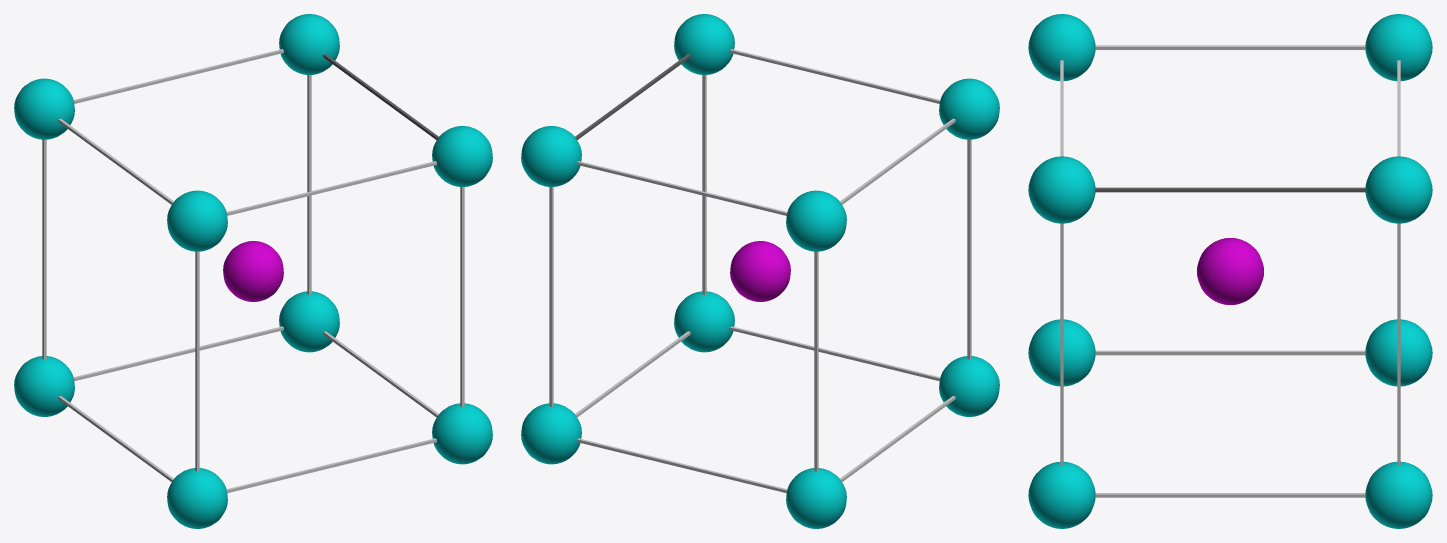
Rendered from cscl_centrado.glb.
3 renders of one model, left to right at view 1: azimuth 30°, elevation 25°; view 2: azimuth 150°, elevation 25°; view 3: azimuth 270°, elevation 25°, orthographic. The views are drawn at different scales.
Visible parts, largest first — view 1: arista13; view 2: arista13; view 3: arista13.
Part boxes in pixels (left/top/right/bottom): arista13: left=14, top=14, right=492, bottom=528; arista13: left=521, top=14, right=999, bottom=528; arista13: left=1028, top=14, right=1432, bottom=528.
Size of the model in its own units: 1.2 by 1.2 by 1.2.
